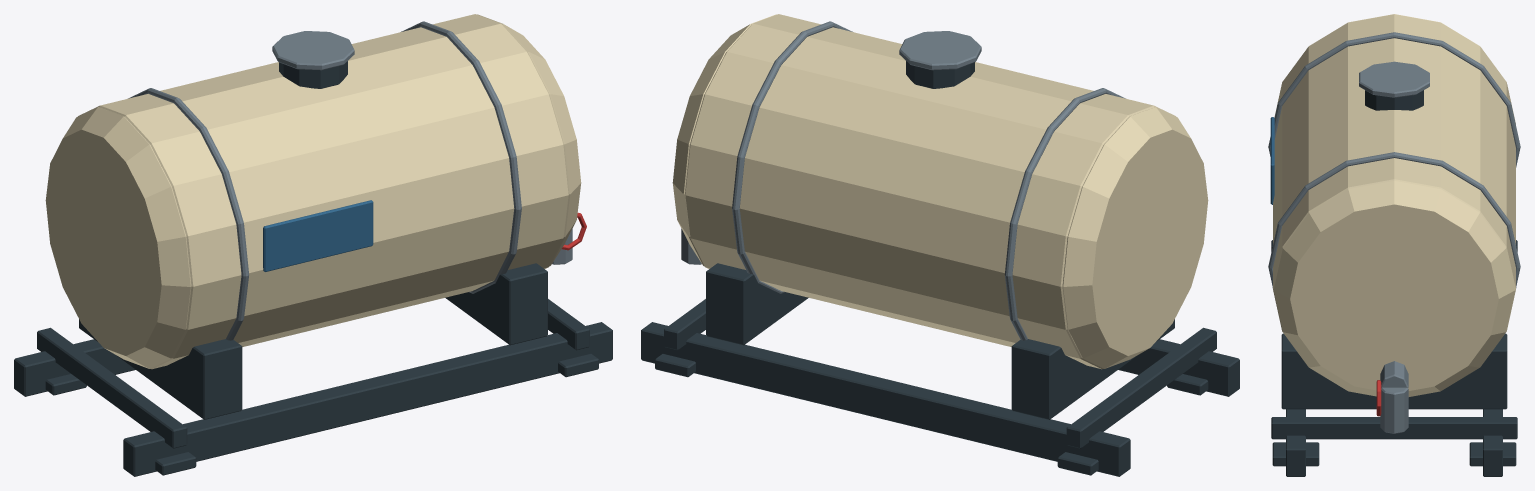
Rendered from b07_water_storage_tank_skid.glb.
3 views of the same model, side by side, from view 1: azimuth 30°, elevation 25°; view 2: azimuth 150°, elevation 25°; view 3: azimuth 270°, elevation 25° (orthographic). The views are drawn at different scales.
Parts seen in each view (by area): view 1: b07_water_storage_tank_skid; view 2: b07_water_storage_tank_skid; view 3: b07_water_storage_tank_skid.
Part boxes in pixels (box(x1,y1,x2,y2)): b07_water_storage_tank_skid: box(14, 14, 612, 476); b07_water_storage_tank_skid: box(641, 14, 1239, 476); b07_water_storage_tank_skid: box(1268, 14, 1520, 476).
Size of the model in its own units: 3.36 by 2.09 by 1.62.
